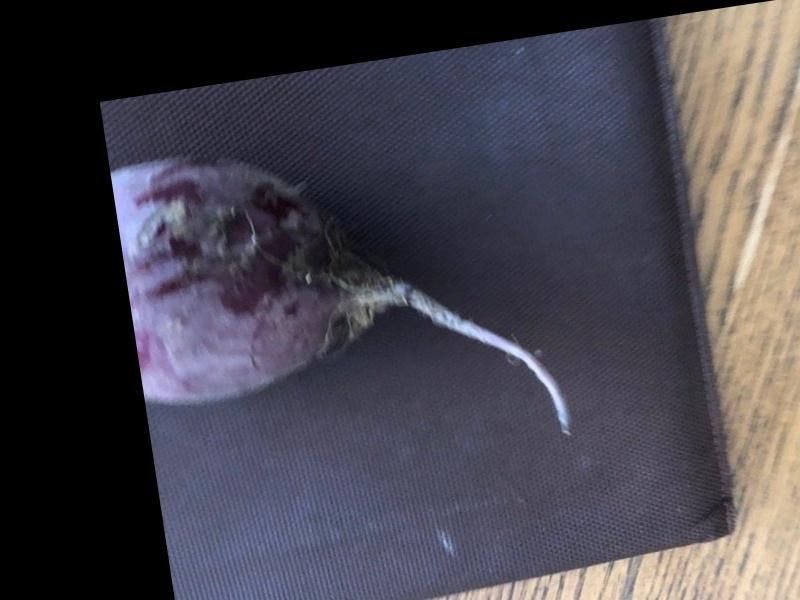Beet: (112, 105, 572, 493)
